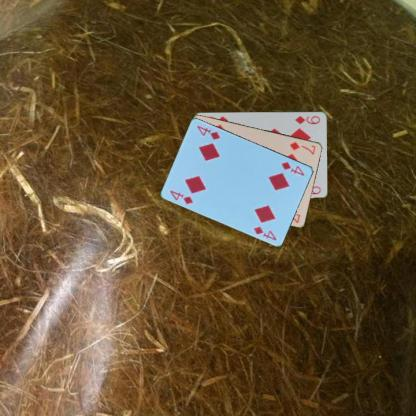4d: (168, 188, 194, 207), (279, 159, 306, 177)
7d: (287, 140, 317, 156)
9d: (293, 113, 321, 125)
